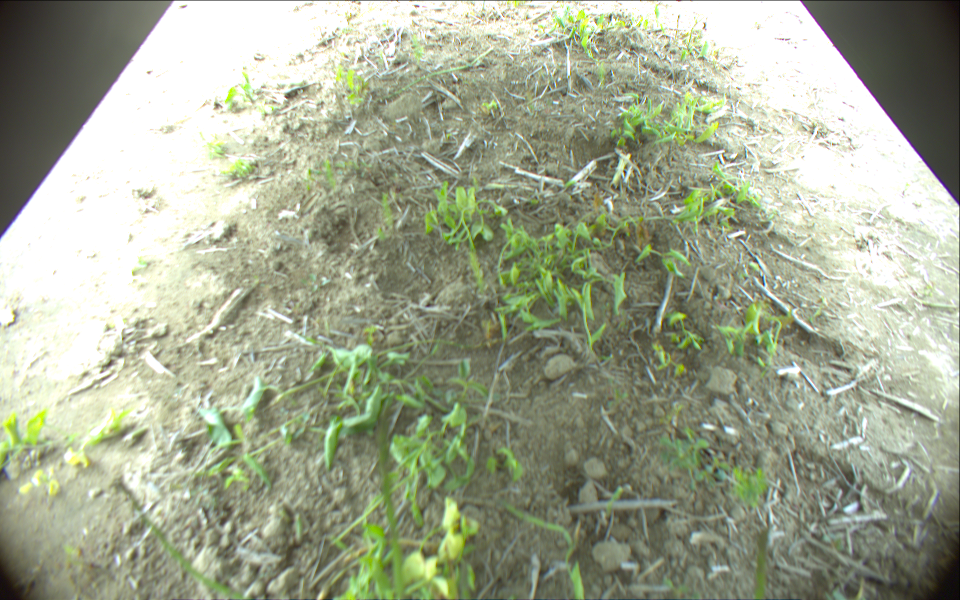aspa: (113, 479, 244, 600), (381, 47, 494, 101), (376, 408, 407, 600), (749, 526, 770, 600)
